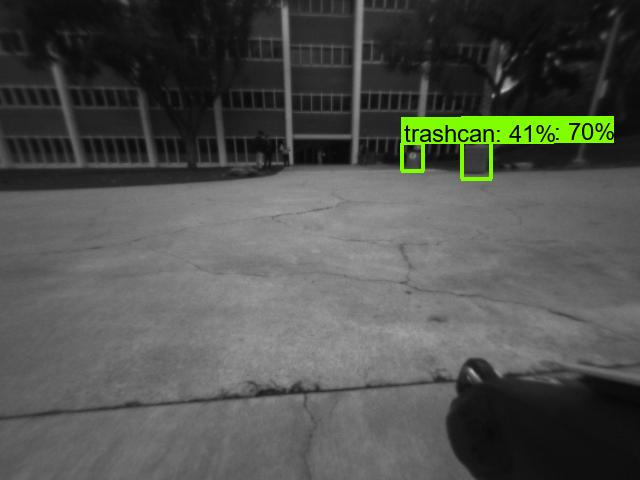trashcan: (464, 141, 491, 177), (409, 144, 422, 171)
